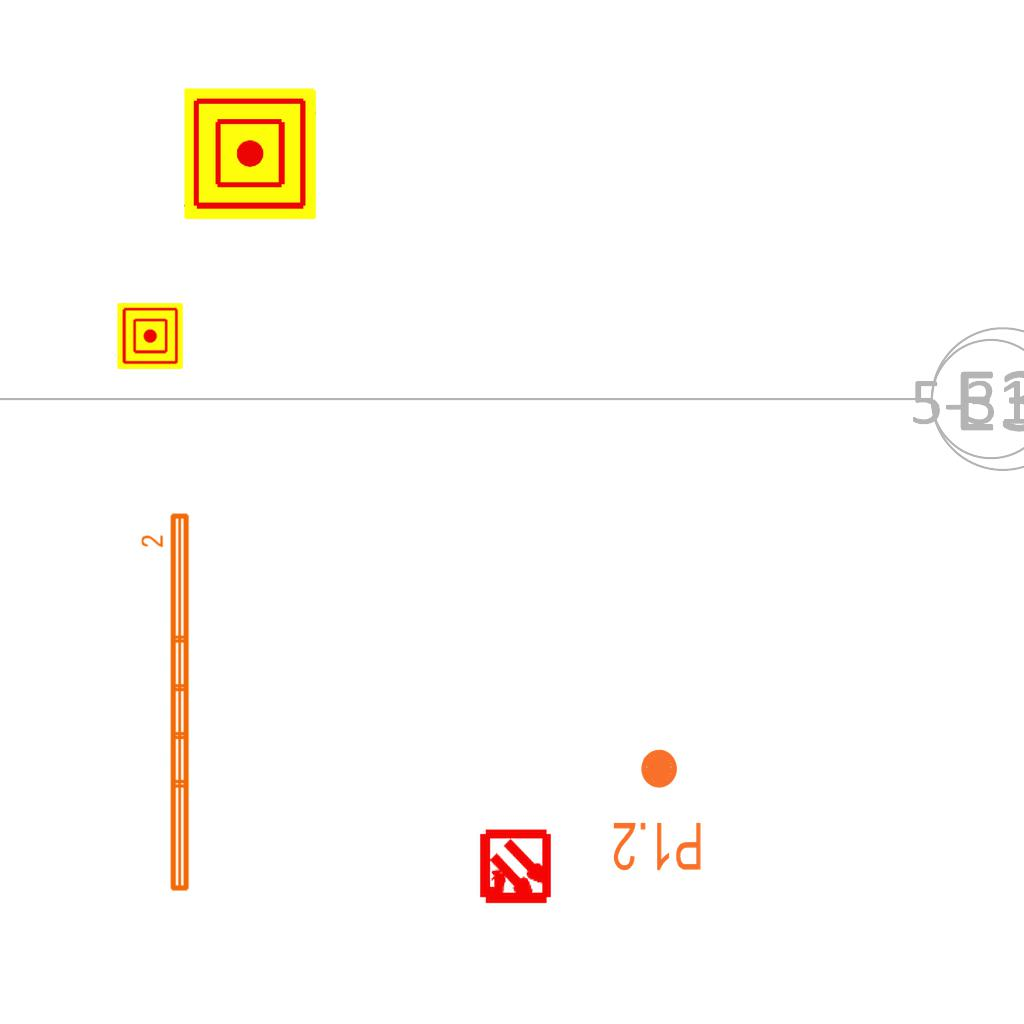Ambulanz_Pendelleuchte_LED: (139, 509, 195, 896)
Downlight_LED_Einbauleuchten_Flur: (611, 746, 704, 874)
NAM-Nichtautomatischer_Melder: (184, 88, 316, 220), (117, 303, 183, 369)
OT_Multisensormelder_(Kombination_RMO_WMD): (459, 812, 572, 925)
